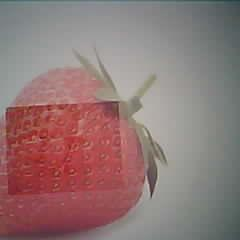straw-ripe: (0, 66, 146, 240)
